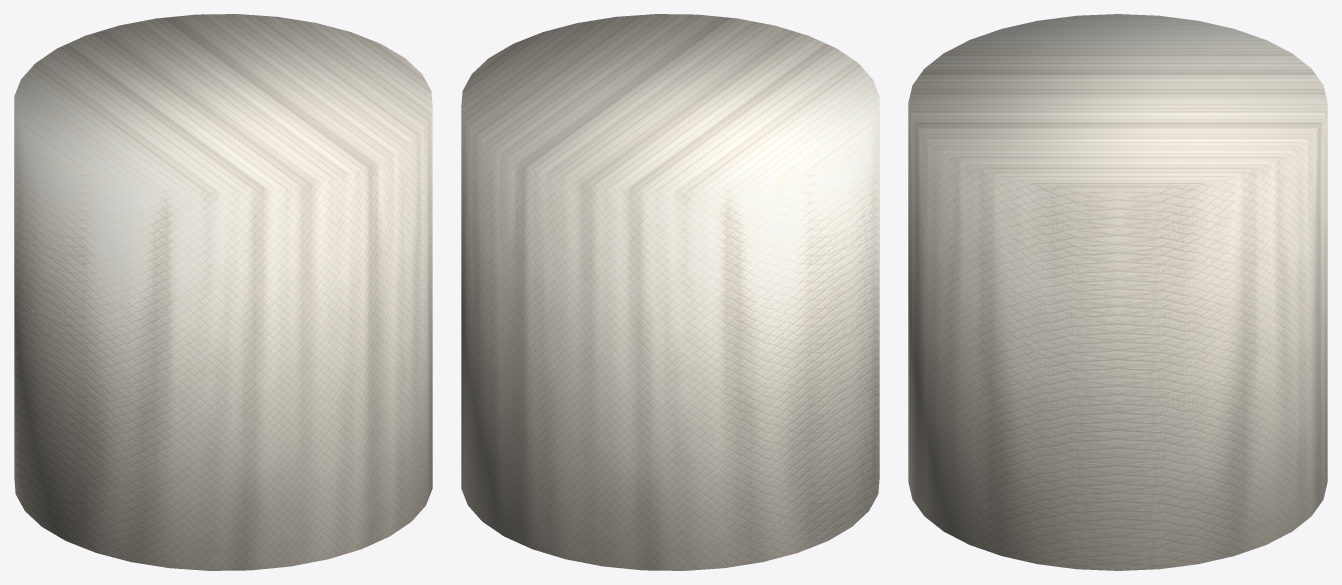
Rendered from body_silo.glb.
3 renders of one model, left to right at view 1: azimuth 30°, elevation 25°; view 2: azimuth 150°, elevation 25°; view 3: azimuth 270°, elevation 25°, orthographic.
Parts seen in each view (by area): view 1: silo_mesh; view 2: silo_mesh; view 3: silo_mesh.
Part boxes in pixels (bbox=[...]): silo_mesh: bbox=[14, 14, 432, 570]; silo_mesh: bbox=[461, 14, 879, 570]; silo_mesh: bbox=[908, 14, 1327, 570].
Size of the model in its own units: 2000 by 2000 by 2000.
5 materials, 2 textured.
